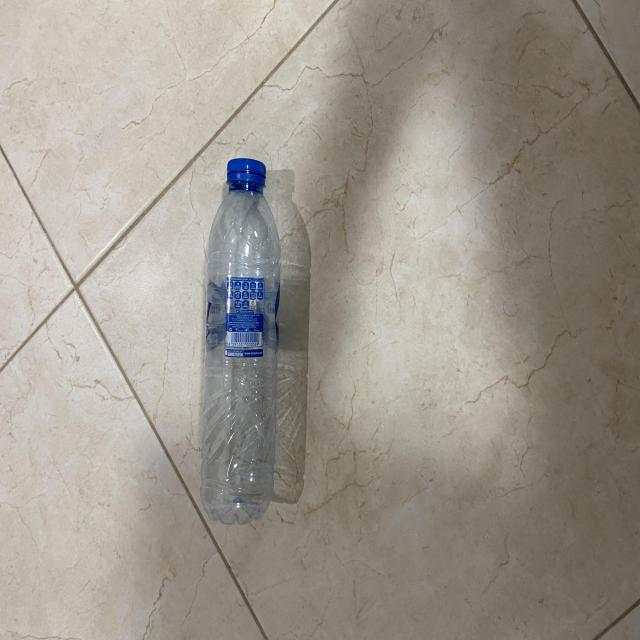plastic: (199, 157, 280, 528)
